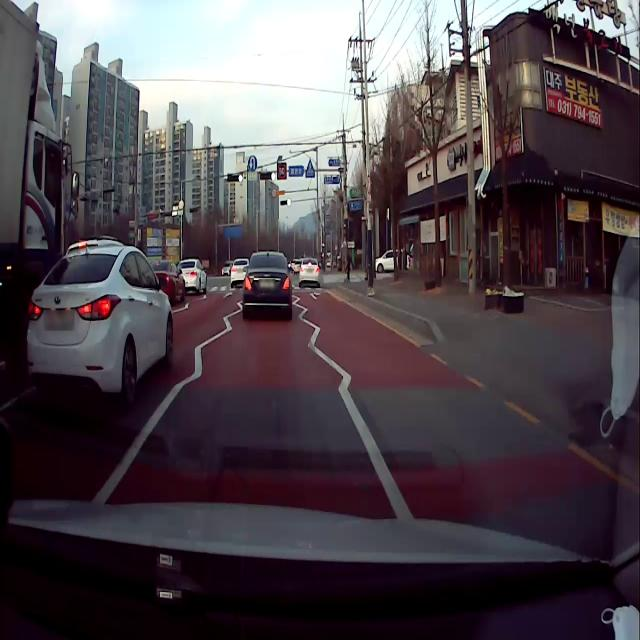Green Light: (271, 172, 276, 180), (287, 197, 291, 207), (238, 175, 242, 182)
